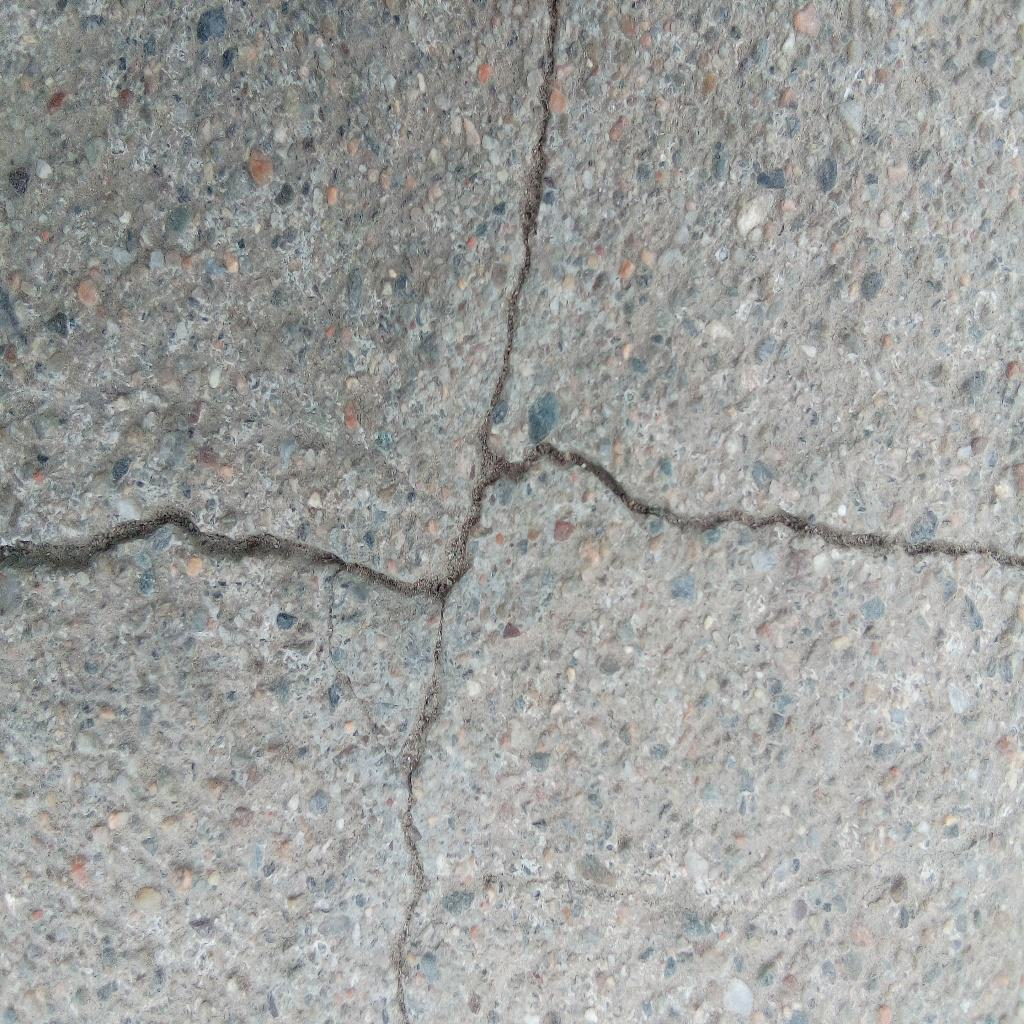Crack: (392, 1, 559, 1024), (500, 444, 1024, 568), (1, 507, 445, 596)
